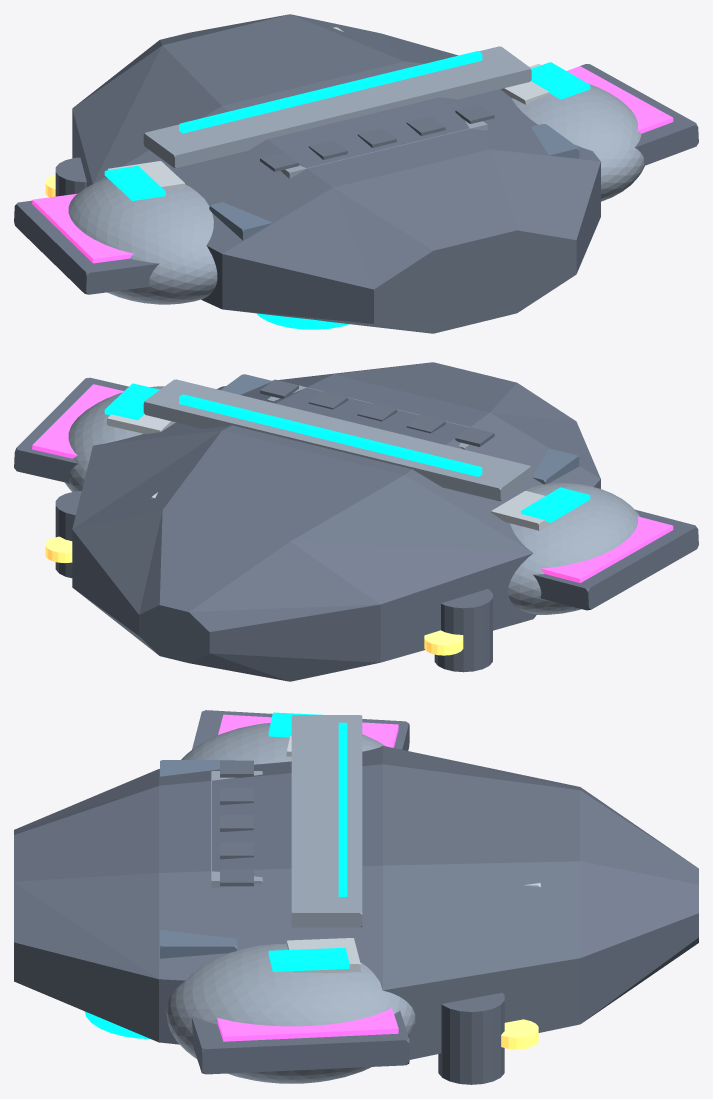
Rendered from sentinel_boss.glb.
The picture shows the model from 3 angles, top to bottom: view 1: azimuth 30°, elevation 25°; view 2: azimuth 150°, elevation 25°; view 3: azimuth 270°, elevation 25°; orthographic projection. The views are drawn at different scales.
Visible parts, largest first — view 1: Ceramic_titanium, Brushed_alloy, Cyan_lightguide, Magenta_lightguide, Blue_titanium_facade, Edge_titanium; view 2: Ceramic_titanium, Brushed_alloy, Cyan_lightguide, Magenta_lightguide, Edge_titanium, Blue_titanium_facade, Amber_signal; view 3: Ceramic_titanium, Brushed_alloy, Cyan_lightguide, Magenta_lightguide, Blue_titanium_facade, Edge_titanium, Amber_signal.
Part boxes in pixels (<box>): Ceramic_titanium: <box>14,14,698,333</box>; Brushed_alloy: <box>68,46,644,304</box>; Cyan_lightguide: <box>104,51,590,329</box>; Magenta_lightguide: <box>32,66,673,263</box>; Blue_titanium_facade: <box>209,124,579,240</box>; Edge_titanium: <box>107,27,550,189</box>; Ceramic_titanium: <box>14,362,698,681</box>; Brushed_alloy: <box>65,379,639,614</box>; Cyan_lightguide: <box>104,383,590,522</box>; Magenta_lightguide: <box>32,384,673,582</box>; Edge_titanium: <box>106,414,560,530</box>; Blue_titanium_facade: <box>221,374,579,484</box>; Amber_signal: <box>45,536,463,655</box>; Ceramic_titanium: <box>14,710,698,1084</box>; Brushed_alloy: <box>166,715,415,1083</box>; Cyan_lightguide: <box>84,712,349,1038</box>; Magenta_lightguide: <box>217,714,398,1041</box>; Blue_titanium_facade: <box>160,760,236,958</box>; Edge_titanium: <box>286,736,540,973</box>; Amber_signal: <box>501,1019,538,1049</box>.
Bounding box in the file's own units: 5.01 × 1.31 × 4.26.
8 materials, 8 textured.
